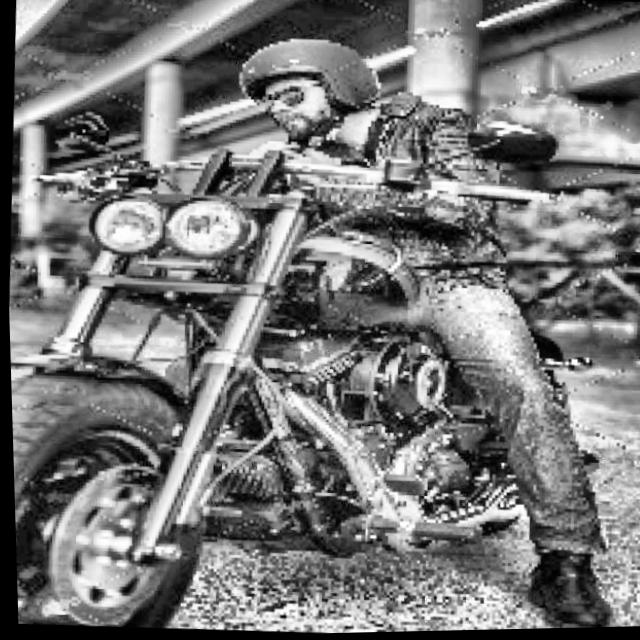motorcycle: (2, 88, 605, 640)
